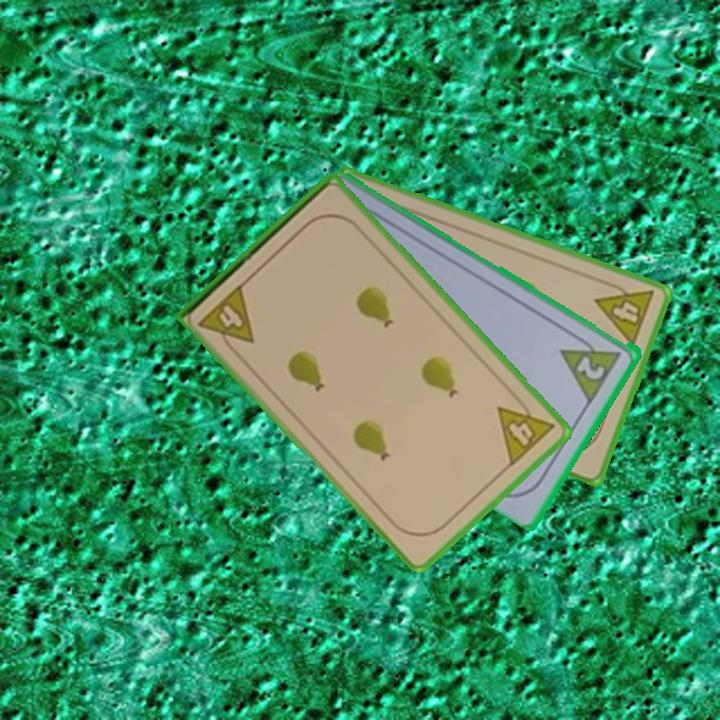2p: (557, 328, 626, 404)
4p: (493, 389, 557, 470), (591, 275, 658, 350), (195, 280, 258, 358)
